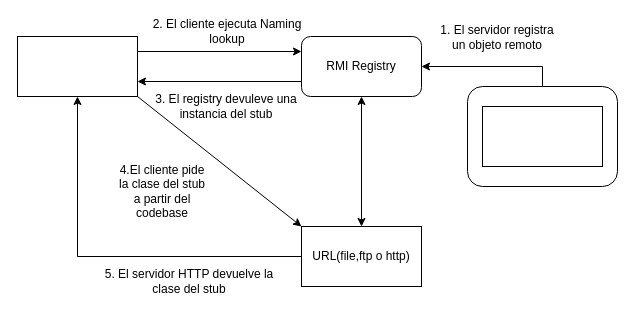
Image size: 635x314. Some labels were removed from this diagram. Here are the shapes that lost their labels. From the top down, the box of each, then its label:
(16, 36, 138, 96): Cliente RMI
(482, 106, 602, 166): Servidor RMI
